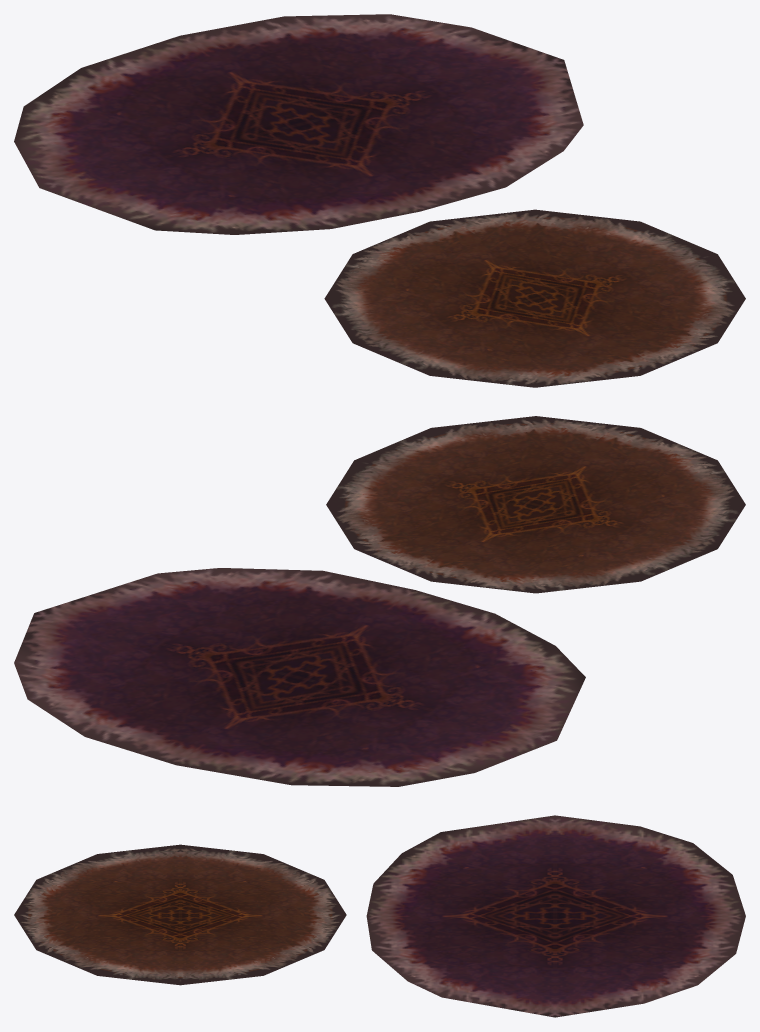
The model's file is 2_SM_DiTan_01.FBX.
3 renders of one model, top to bottom at view 1: azimuth 30°, elevation 25°; view 2: azimuth 150°, elevation 25°; view 3: azimuth 270°, elevation 25°, orthographic. The views are drawn at different scales.
Parts seen in each view (by area): view 1: 2_SM_DiTan_02, 2_SM_DiTan_01; view 2: 2_SM_DiTan_02, 2_SM_DiTan_01; view 3: 2_SM_DiTan_02, 2_SM_DiTan_01.
Boxes of the visible parts, x1,y1,x2,y2 form: 2_SM_DiTan_02: (14,14,583,234); 2_SM_DiTan_01: (324,209,745,387); 2_SM_DiTan_02: (14,568,585,786); 2_SM_DiTan_01: (326,416,745,593); 2_SM_DiTan_02: (366,815,745,1017); 2_SM_DiTan_01: (14,844,346,985).
Bounding box in the file's own units: 701 × 1.58e-13 × 1073.
Materials: 1 (1 with a texture image).
